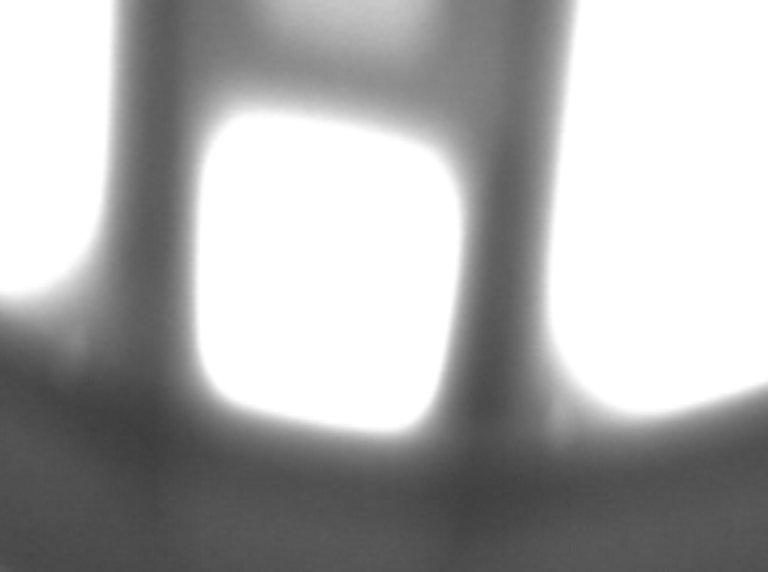defect: (66, 337, 101, 379)
